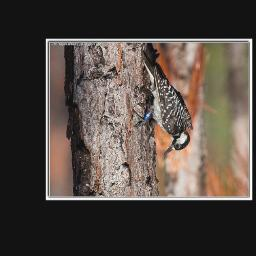Woodpecker: (125, 43, 198, 160)
